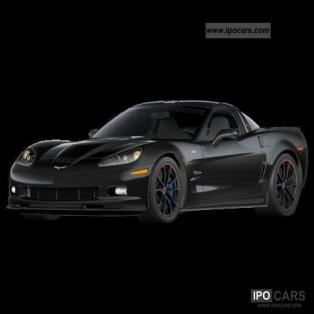Auto: (5, 96, 312, 224)
